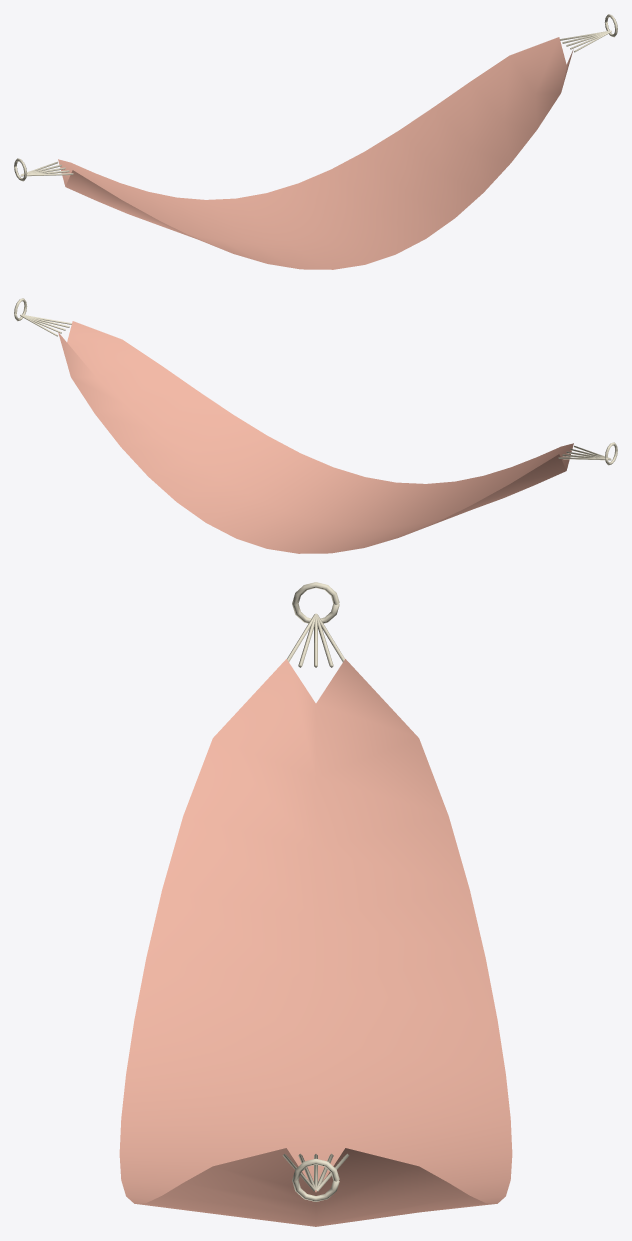
Rendered from hammock.glb.
The picture shows the model from 3 angles, top to bottom: view 1: azimuth 30°, elevation 25°; view 2: azimuth 150°, elevation 25°; view 3: azimuth 270°, elevation 25°; orthographic projection. The views are drawn at different scales.
Visible parts, largest first — view 1: Hammock; view 2: Hammock; view 3: Hammock.
Boxes of the visible parts, x1,y1,x2,y2 form: Hammock: [14, 14, 617, 269]; Hammock: [14, 298, 617, 553]; Hammock: [119, 582, 512, 1226].
Size of the model in its own units: 3.32 by 0.798 by 0.95.
